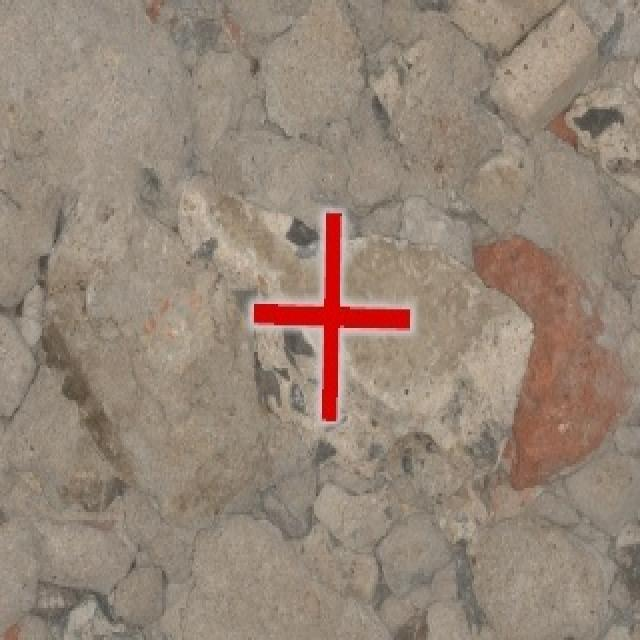x_marker: (251, 212, 411, 420)
